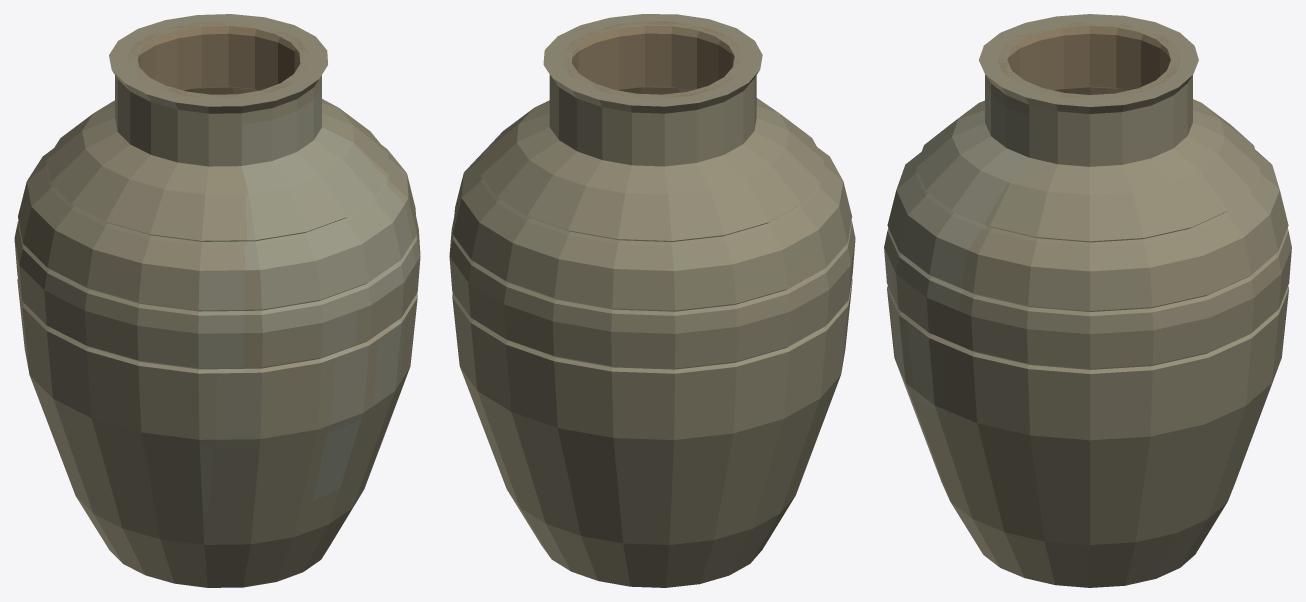
File: antique-tokoname-sutra.glb
The picture shows the model from 3 angles, left to right: view 1: azimuth 30°, elevation 25°; view 2: azimuth 150°, elevation 25°; view 3: azimuth 270°, elevation 25°; orthographic projection.
Parts seen in each view (by area): view 1: antique-tokoname-sutra/vessel-2, antique-tokoname-sutra/vessel-3, antique-tokoname-sutra/vessel-14, antique-tokoname-sutra/vessel-10, antique-tokoname-sutra/vessel-6, antique-tokoname-sutra/vessel-11, antique-tokoname-sutra/vessel-16, antique-tokoname-sutra/vessel-15, antique-tokoname-sutra/vessel-1, antique-tokoname-sutra/vessel-7, antique-tokoname-sutra/vessel-22, antique-tokoname-sutra/vessel-19 (+7 smaller); view 2: antique-tokoname-sutra/vessel-2, antique-tokoname-sutra/vessel-3, antique-tokoname-sutra/vessel-14, antique-tokoname-sutra/vessel-10, antique-tokoname-sutra/vessel-6, antique-tokoname-sutra/vessel-11, antique-tokoname-sutra/vessel-16, antique-tokoname-sutra/vessel-15, antique-tokoname-sutra/vessel-1, antique-tokoname-sutra/vessel-7, antique-tokoname-sutra/vessel-22, antique-tokoname-sutra/vessel-19 (+7 smaller); view 3: antique-tokoname-sutra/vessel-2, antique-tokoname-sutra/vessel-3, antique-tokoname-sutra/vessel-14, antique-tokoname-sutra/vessel-10, antique-tokoname-sutra/vessel-6, antique-tokoname-sutra/vessel-11, antique-tokoname-sutra/vessel-16, antique-tokoname-sutra/vessel-15, antique-tokoname-sutra/vessel-1, antique-tokoname-sutra/vessel-7, antique-tokoname-sutra/vessel-22, antique-tokoname-sutra/vessel-19 (+7 smaller).
Boxes of the visible parts, x1,y1,x2,y2 form: antique-tokoname-sutra/vessel-2: (29,368,409,544); antique-tokoname-sutra/vessel-3: (17,282,417,439); antique-tokoname-sutra/vessel-14: (46,108,389,240); antique-tokoname-sutra/vessel-10: (18,174,417,310); antique-tokoname-sutra/vessel-6: (14,240,420,368); antique-tokoname-sutra/vessel-11: (27,145,408,270); antique-tokoname-sutra/vessel-16: (115,75,321,166); antique-tokoname-sutra/vessel-15: (82,99,354,194); antique-tokoname-sutra/vessel-1: (76,496,358,587); antique-tokoname-sutra/vessel-7: (14,216,420,333); antique-tokoname-sutra/vessel-22: (138,33,300,90); antique-tokoname-sutra/vessel-19: (119,18,317,102); antique-tokoname-sutra/vessel-2: (460,367,840,544); antique-tokoname-sutra/vessel-3: (452,281,852,439); antique-tokoname-sutra/vessel-14: (481,108,824,240); antique-tokoname-sutra/vessel-10: (453,174,852,310); antique-tokoname-sutra/vessel-6: (449,240,855,368); antique-tokoname-sutra/vessel-11: (461,147,843,270); antique-tokoname-sutra/vessel-16: (549,74,756,166); antique-tokoname-sutra/vessel-15: (517,98,788,194); antique-tokoname-sutra/vessel-1: (507,490,794,587); antique-tokoname-sutra/vessel-7: (449,217,855,333); antique-tokoname-sutra/vessel-22: (572,33,734,89); antique-tokoname-sutra/vessel-19: (553,18,752,102); antique-tokoname-sutra/vessel-2: (895,360,1279,544); antique-tokoname-sutra/vessel-3: (887,289,1288,440); antique-tokoname-sutra/vessel-14: (916,103,1260,241); antique-tokoname-sutra/vessel-10: (887,190,1288,310); antique-tokoname-sutra/vessel-6: (884,248,1291,368); antique-tokoname-sutra/vessel-11: (896,150,1279,271); antique-tokoname-sutra/vessel-16: (985,74,1192,166); antique-tokoname-sutra/vessel-15: (952,99,1224,194); antique-tokoname-sutra/vessel-1: (951,502,1227,587); antique-tokoname-sutra/vessel-7: (884,231,1291,334); antique-tokoname-sutra/vessel-22: (1007,33,1170,90); antique-tokoname-sutra/vessel-19: (989,18,1188,102).
Bounding box in the file's own units: 0.5625 × 0.7304 × 0.5625.
Materials: 3 (3 with a texture image).
